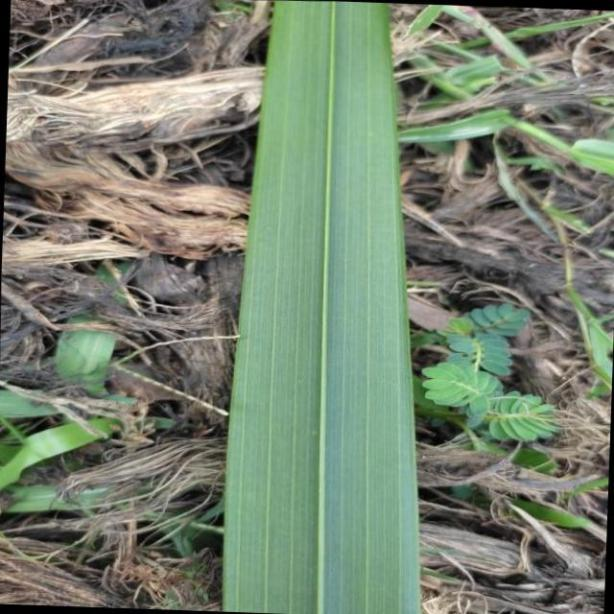Healthy: (221, 0, 422, 614)
